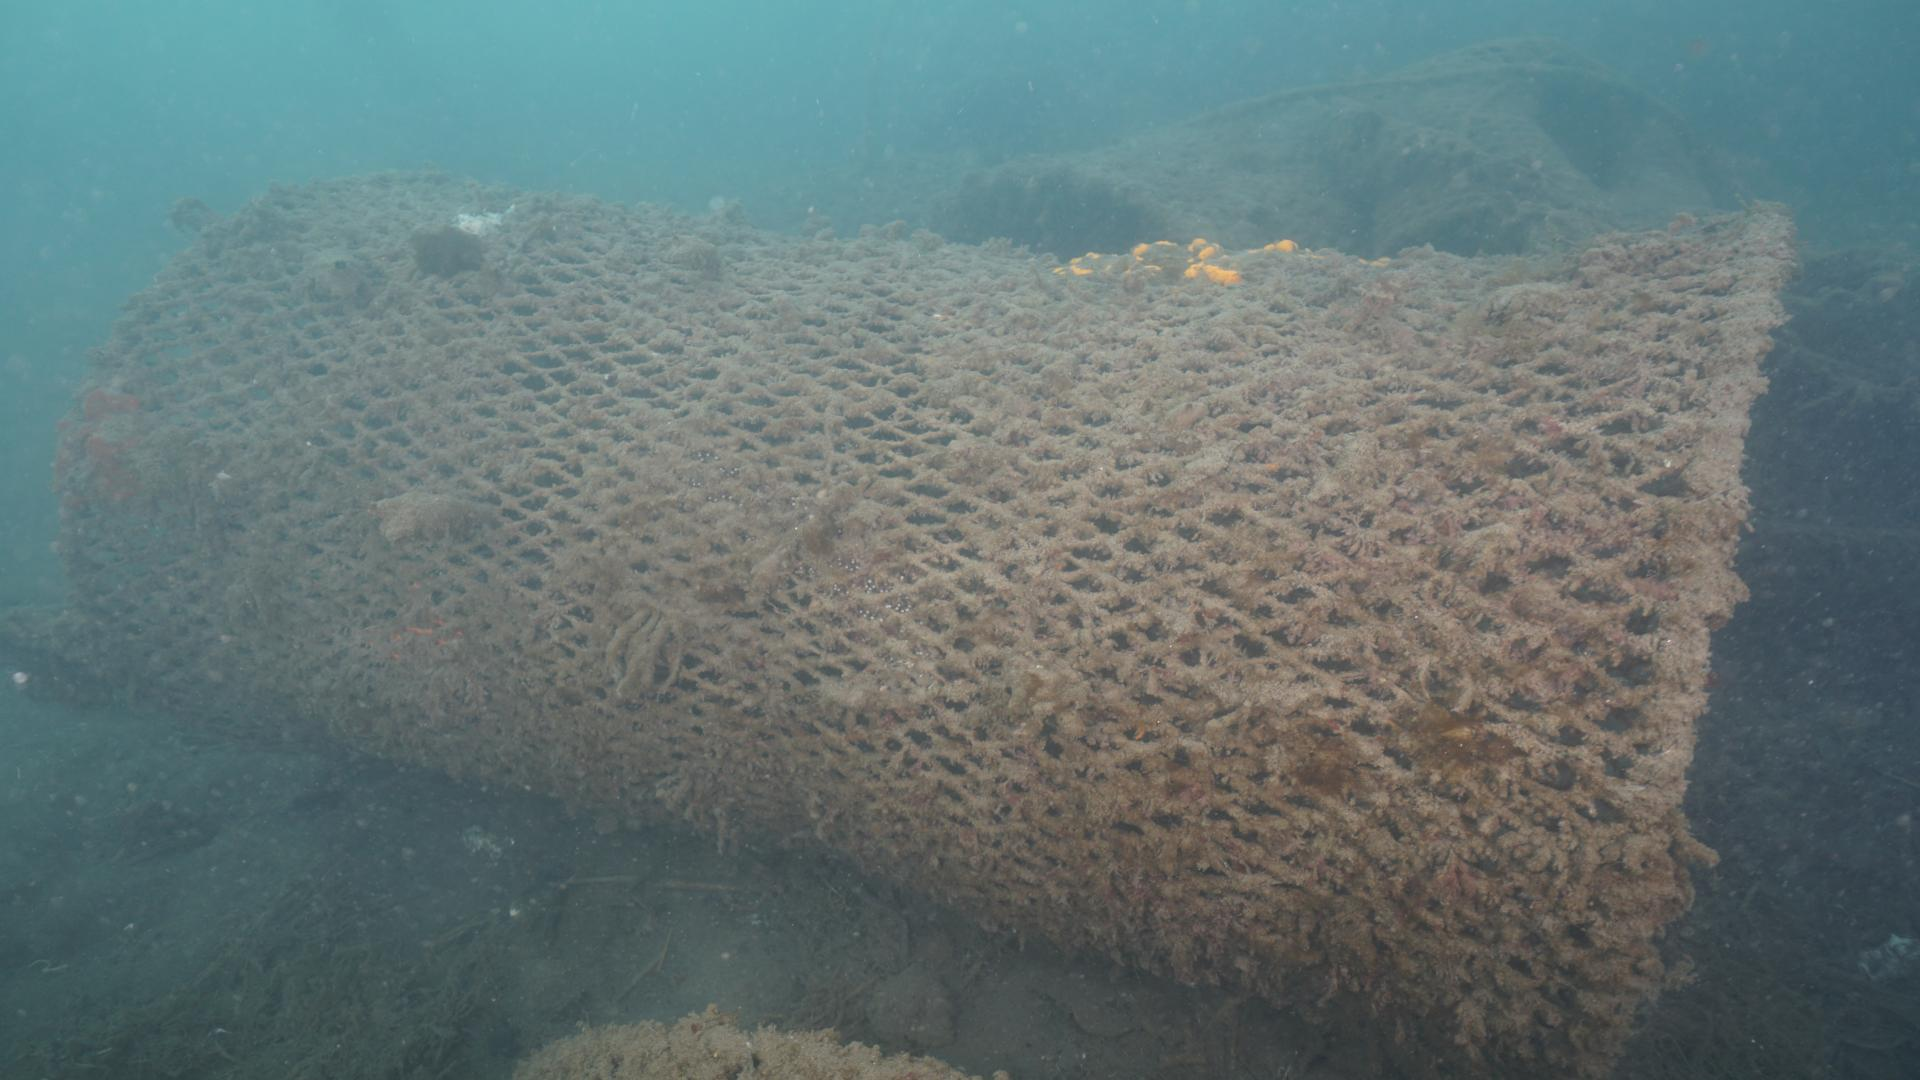spring fish trap: (51, 162, 1804, 1080)
